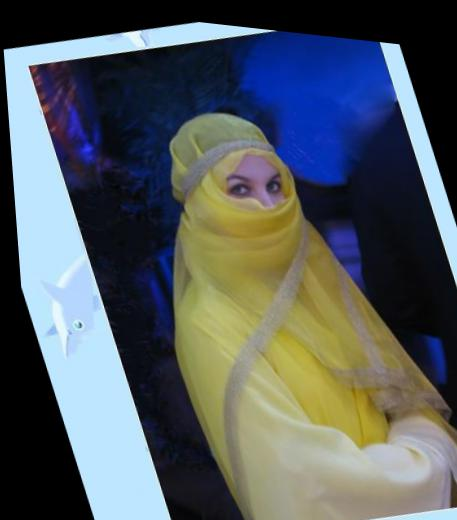WRONG: (202, 144, 307, 264)
